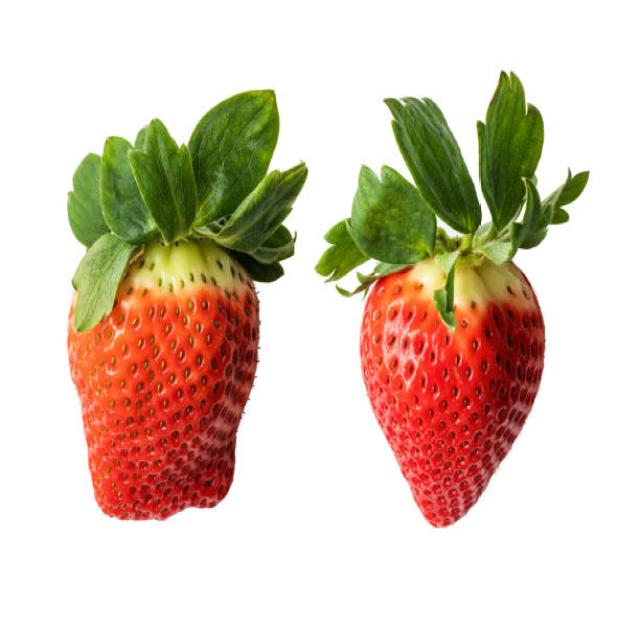Healthy Fruit: (67, 238, 260, 521), (359, 250, 544, 527)
